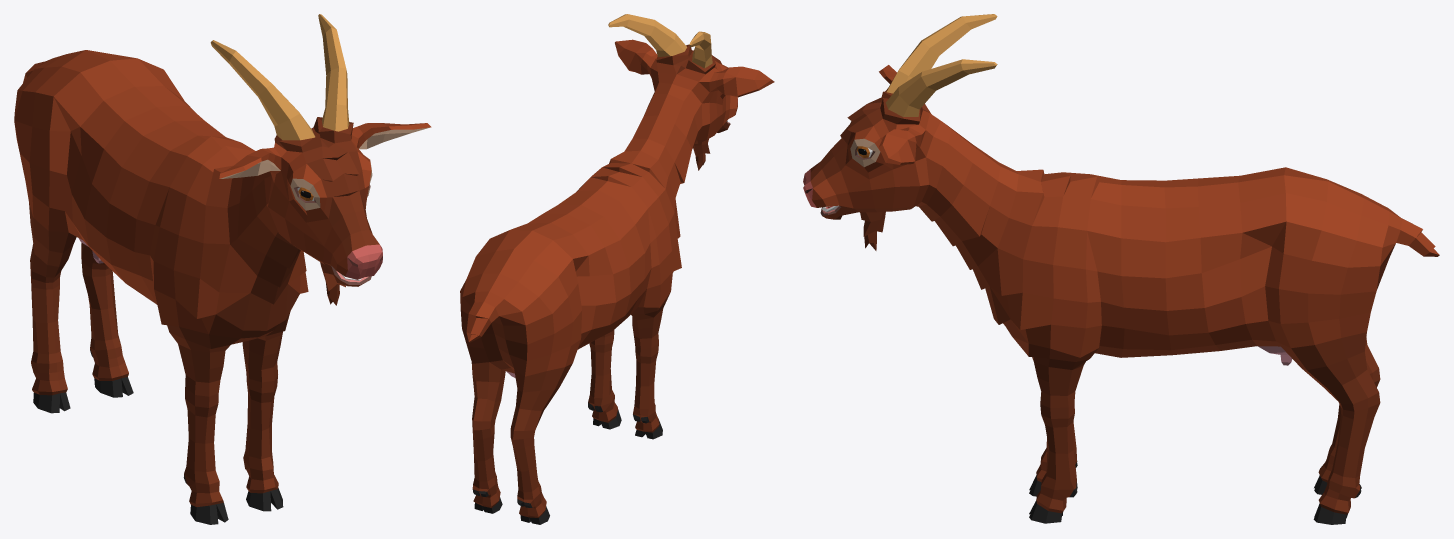
The model's file is LowPoly_Goat_Fem_7.obj.
3 views of the same model, side by side, from view 1: azimuth 30°, elevation 25°; view 2: azimuth 150°, elevation 25°; view 3: azimuth 270°, elevation 25° (orthographic). The views are drawn at different scales.
Visible parts, largest first — view 1: Goat_Fem_7_Cube.006; view 2: Goat_Fem_7_Cube.006; view 3: Goat_Fem_7_Cube.006.
Part boxes in pixels (x1,y1,x2,y2): Goat_Fem_7_Cube.006: [14, 14, 431, 524]; Goat_Fem_7_Cube.006: [460, 14, 774, 524]; Goat_Fem_7_Cube.006: [803, 14, 1439, 524].
Size of the model in its own units: 0.421 by 0.9552 by 1.18.
